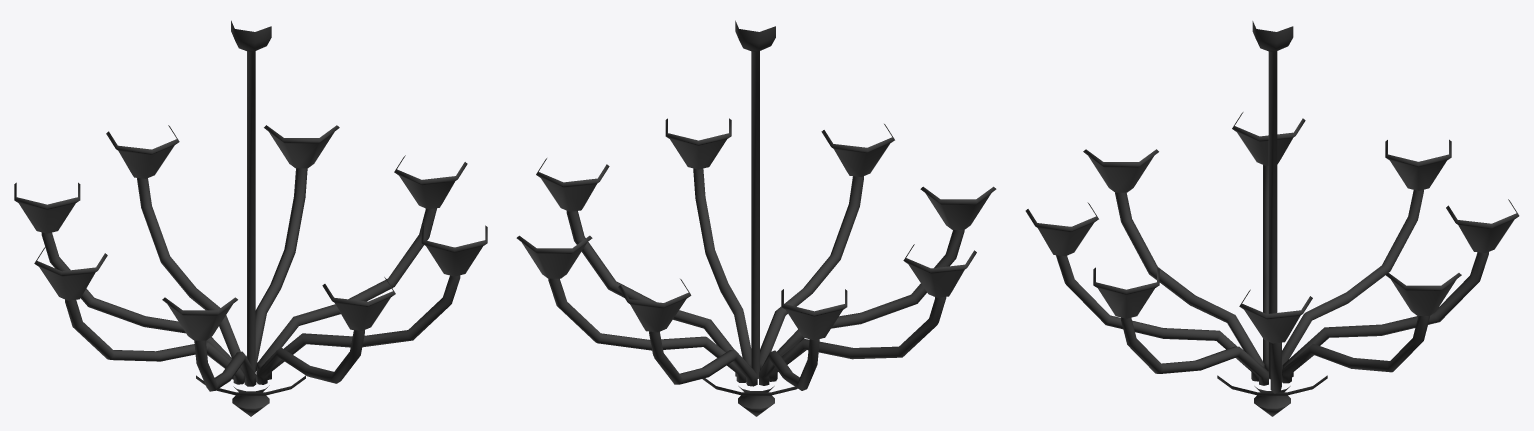
The model's file is Chandelier.glb.
The picture shows the model from 3 angles, left to right: view 1: azimuth 30°, elevation 25°; view 2: azimuth 150°, elevation 25°; view 3: azimuth 270°, elevation 25°; orthographic projection.
Parts seen in each view (by area): view 1: Chandelier; view 2: Chandelier; view 3: Chandelier.
Boxes of the visible parts, left/top/right/bottom form: Chandelier: left=14, top=20, right=487, bottom=416; Chandelier: left=516, top=20, right=996, bottom=416; Chandelier: left=1025, top=21, right=1519, bottom=416.
Bounding box in the file's own units: 0.7592 × 0.6683 × 0.7592.
1 material, 1 textured.
